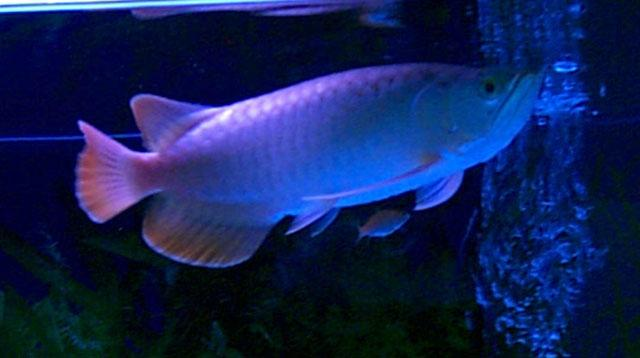Mulut: (462, 53, 560, 141)
Sirip Anal: (128, 192, 288, 278)
Sirip Dada: (396, 168, 482, 228)
Sirip Ekor: (54, 108, 164, 228)
Sirip Perut: (272, 197, 348, 253)
Sirip Punggung: (117, 81, 347, 161)
